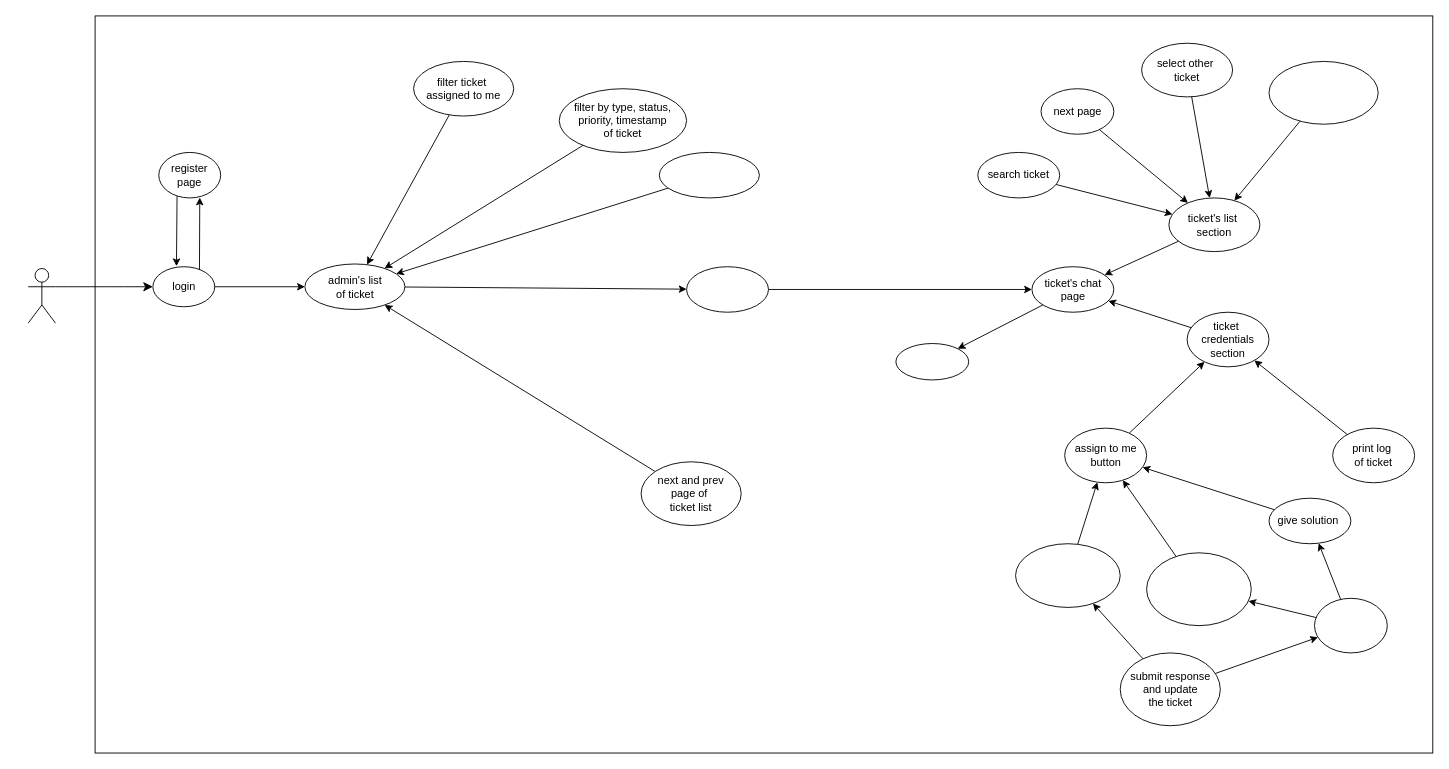
Image size: 1449x769. Some labels were removed from this diagram. The box of each missing label's shape, as (x1, y1, x2, y2) in pixels:
Admin: (27, 268, 56, 323)
ask user a question and enable user to reply: (1146, 552, 1251, 626)
back button: (895, 343, 969, 380)
change ticket's priority, status and type: (1015, 543, 1120, 607)
filter ticket by timestamp, status, type: (1268, 61, 1378, 124)
search ticket's subject: (658, 152, 759, 198)
select ticket: (686, 266, 768, 312)
write the message: (1314, 597, 1387, 653)
